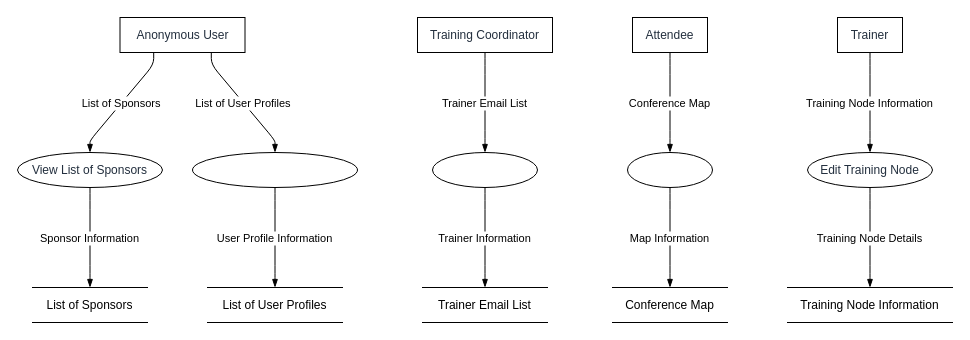
Image size: 970x340. Some labels were removed from this diagram. The shapes that lost their labels are listed below. From the top down, each one's centre as x and y in pixels, then its label:
the point at 275,170: View List of User Profiles
the point at 485,170: Email Trainers
the point at 669,170: View Map
